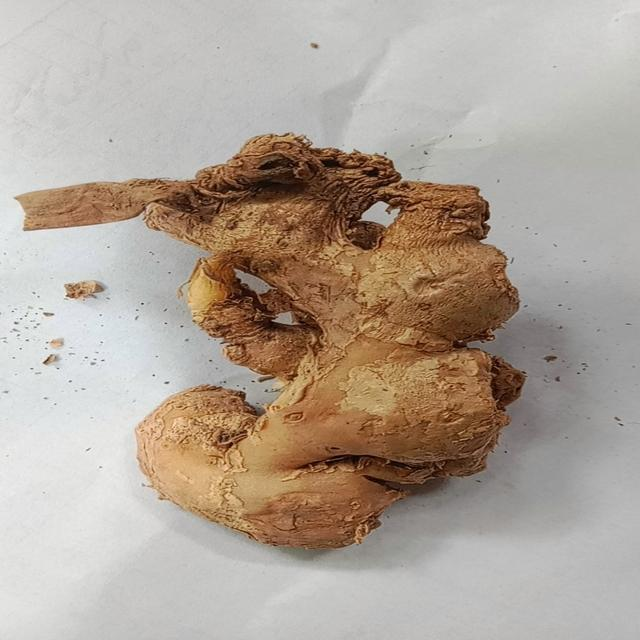ginger: (152, 125, 526, 562)
